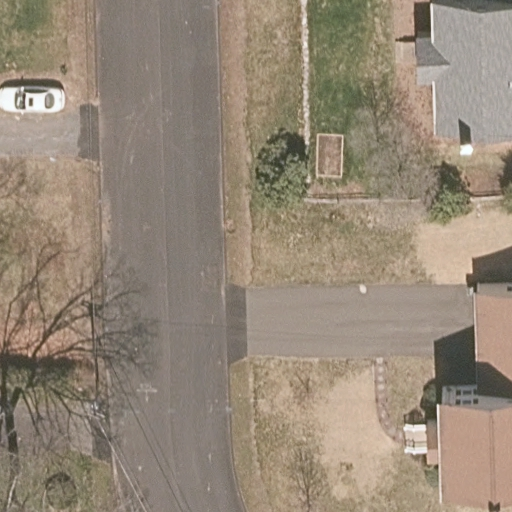DT: (78, 388, 110, 438)
